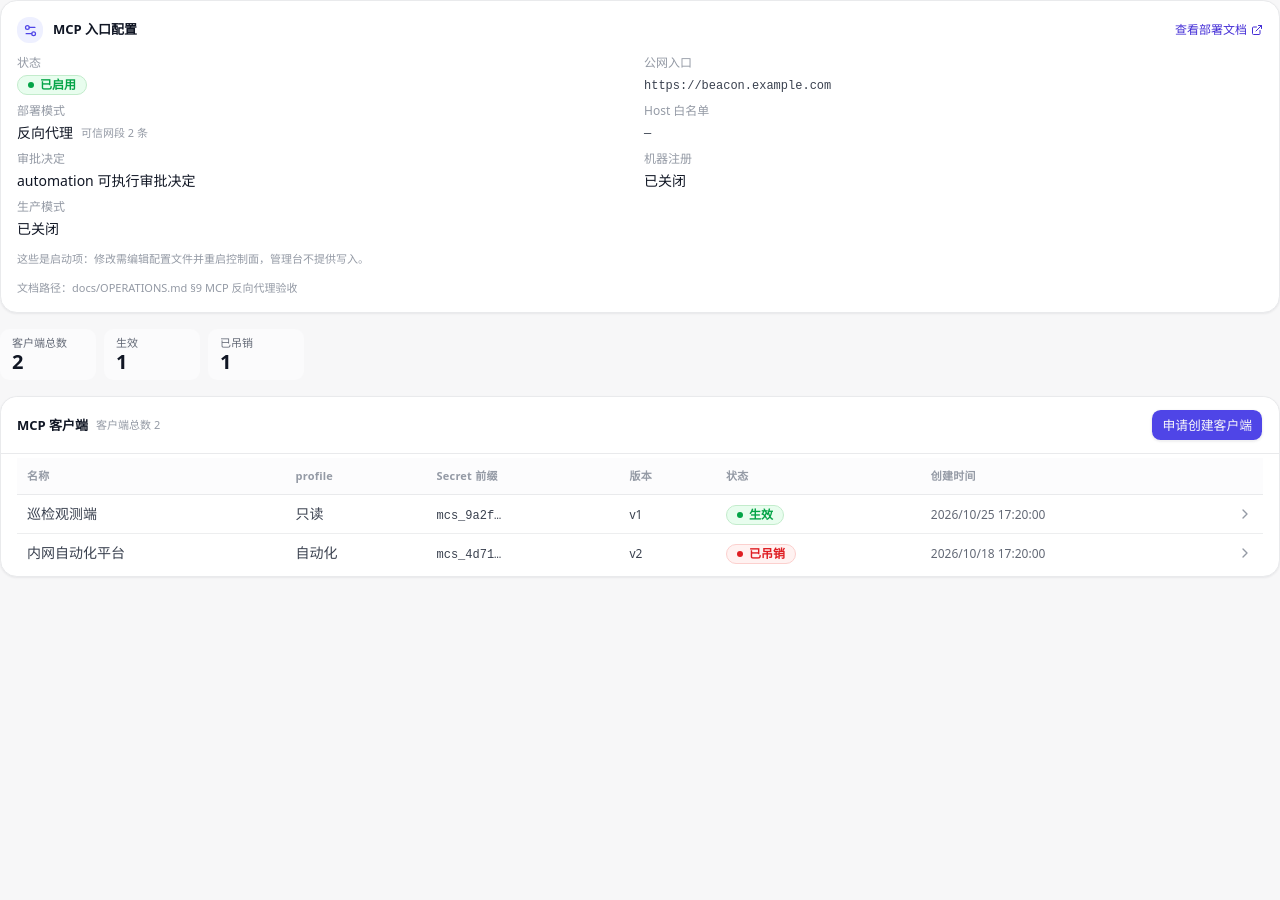
it: /mcp-clients MCP 客户端页 › 申请创建客户端：带幂等键、提交原因、展示一次性明文
Expected: the text "巡检观测端" is shown, [27,504,97,522]
Click the button "申请创建客户端". click: (1207, 425)
box: [1151,409,1263,441]
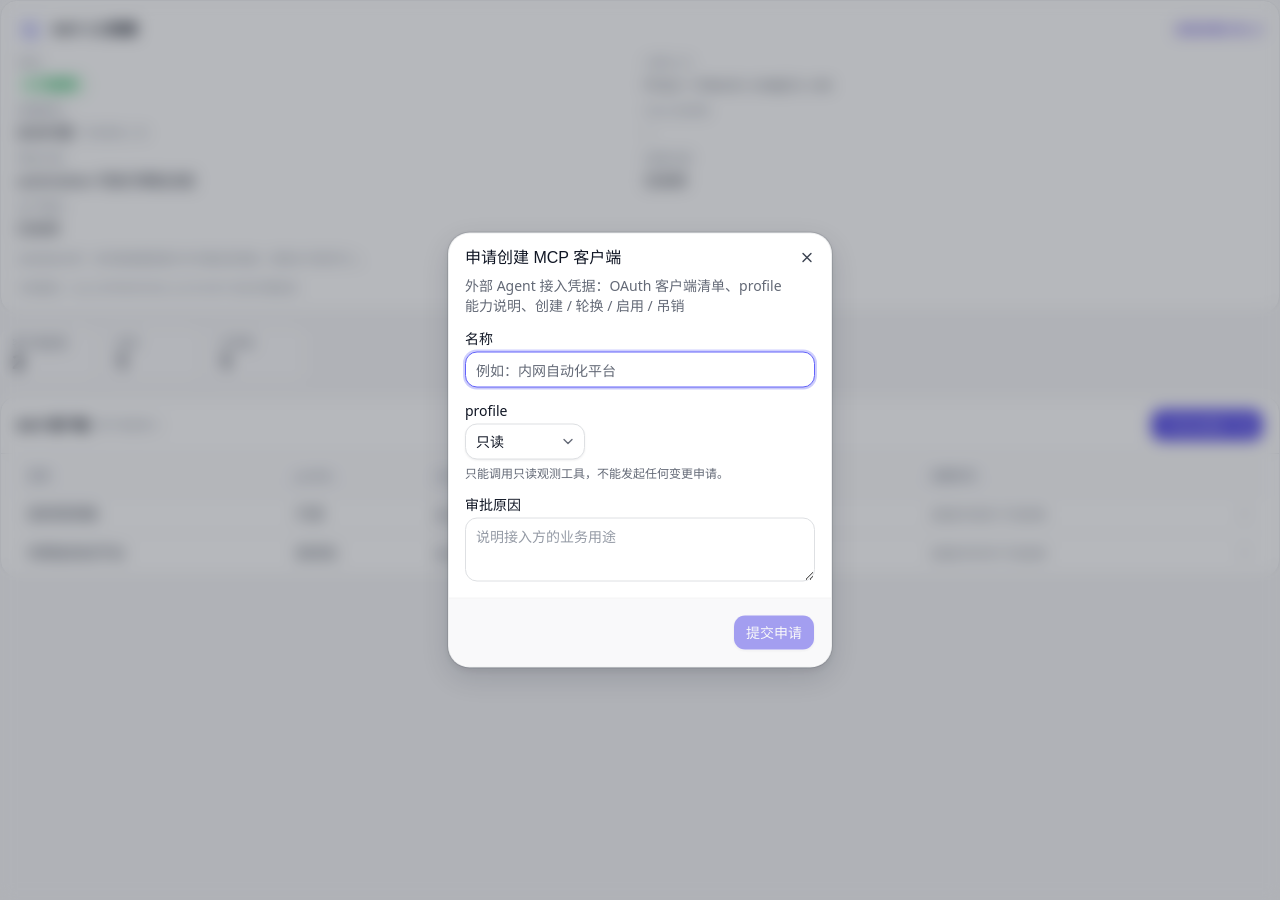
Type "新接入平台" into the field labelled "名称". click: (640, 370)
box: [465,352,815,388]
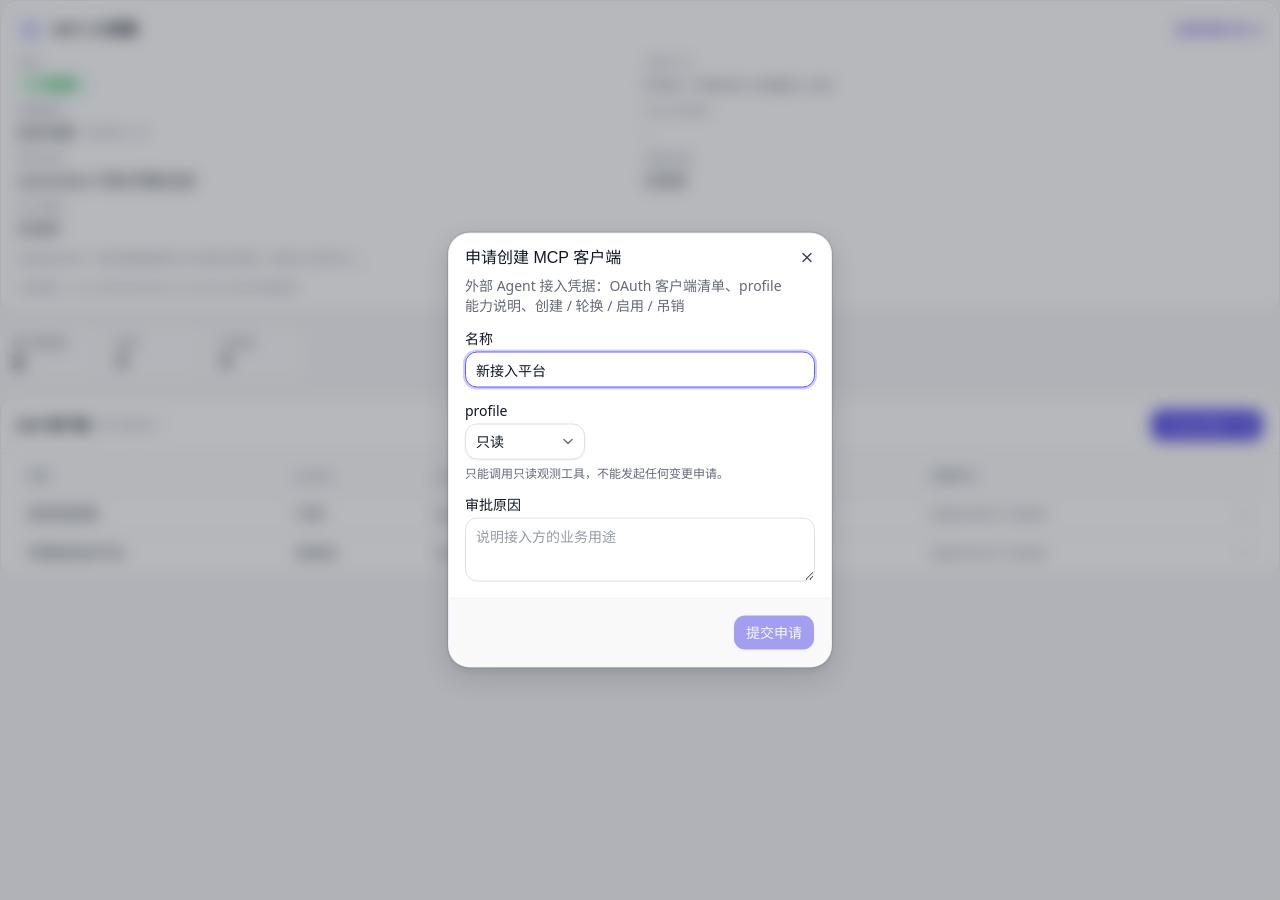
# profile 选择（默认 observer，此处显式改选 automation）
Click the dropdown named "profile". click: (525, 442)
box: [465,424,585,460]
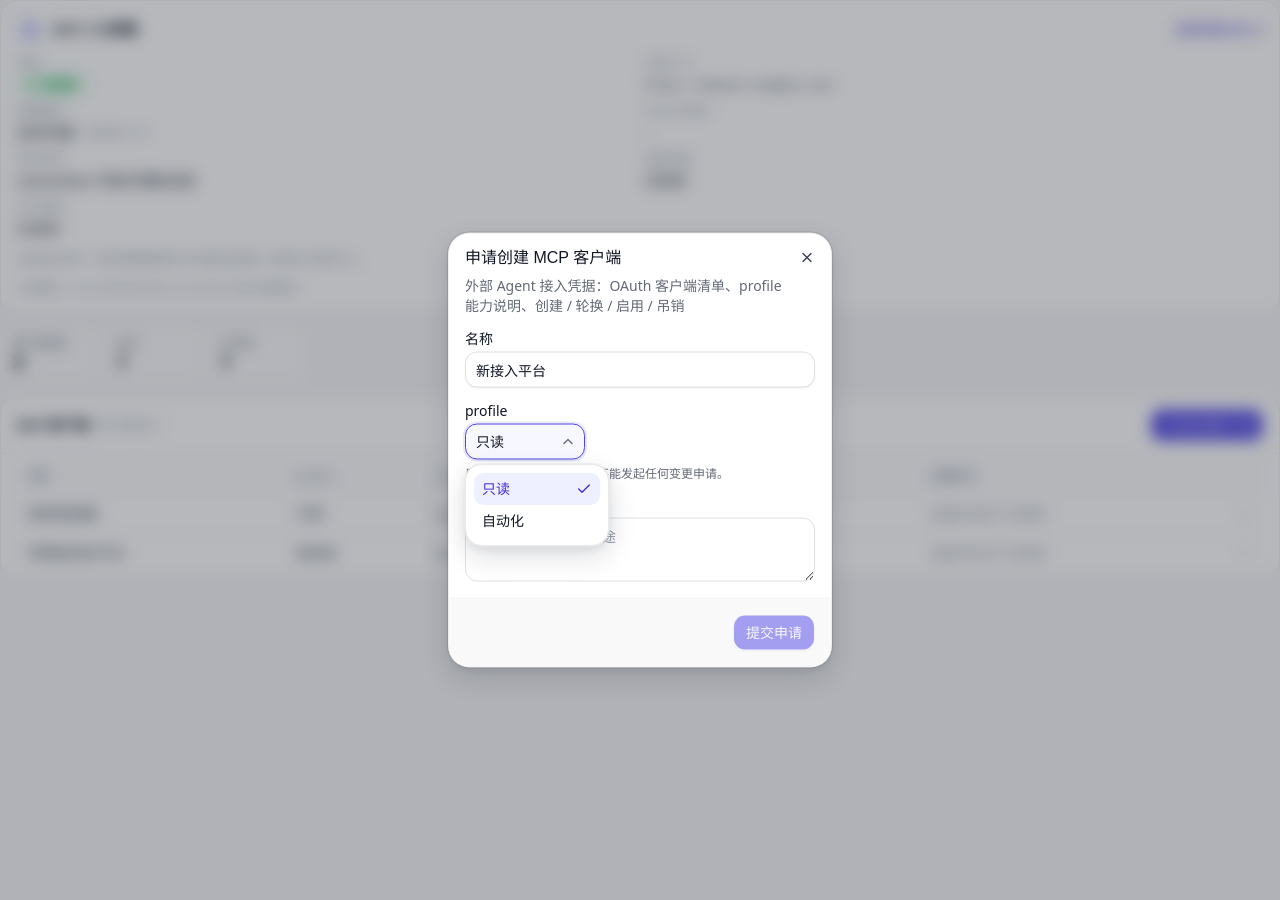
Click the option "自动化". click: (503, 520)
box: [482,511,524,530]
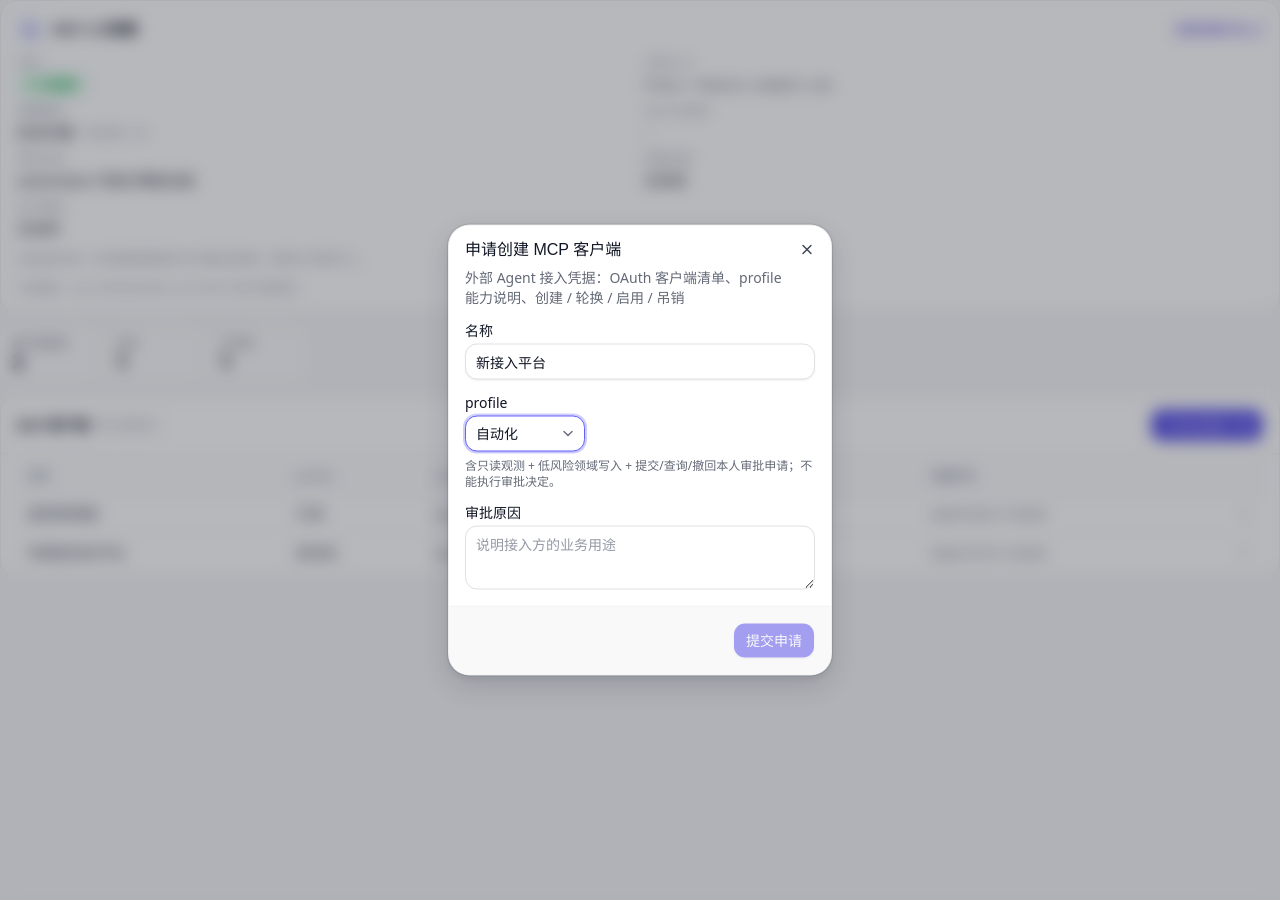
Type "用于内网自动化" into the text box labelled "审批原因". click: (640, 558)
box: [465,526,815,590]
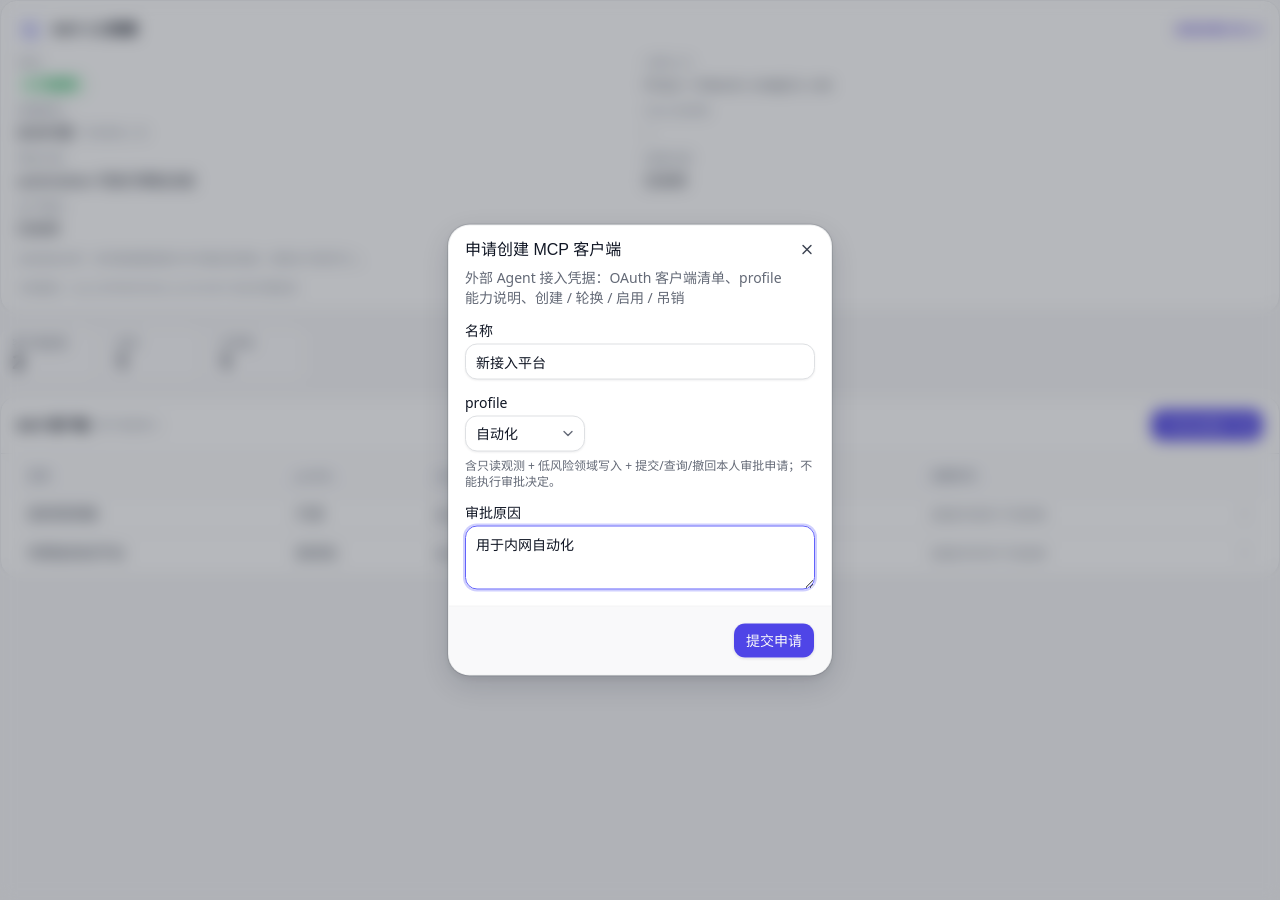
Click the button "提交申请". click: (774, 640)
box: [733,622,815,658]
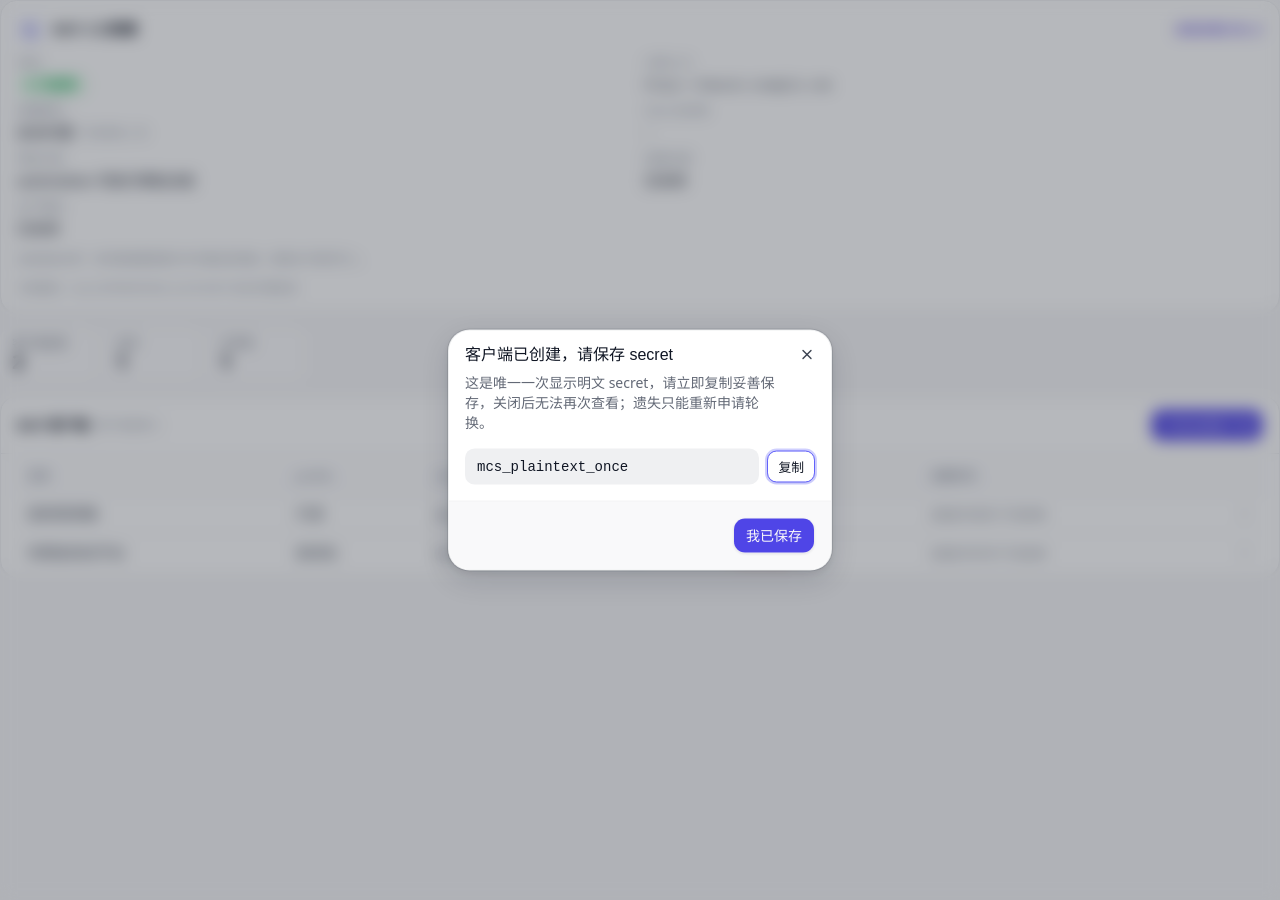
Expected: the heading "客户端已创建，请保存 secret" is shown, [465,346,673,362]
Expected: the text "mcs_plaintext_once" is shown, [465,448,759,484]
